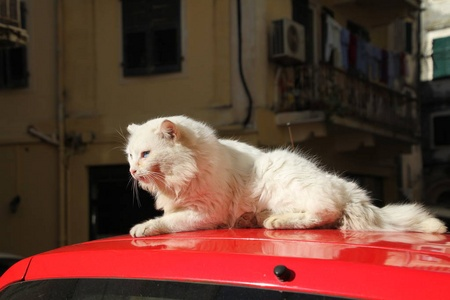cat: (124, 114, 448, 237)
